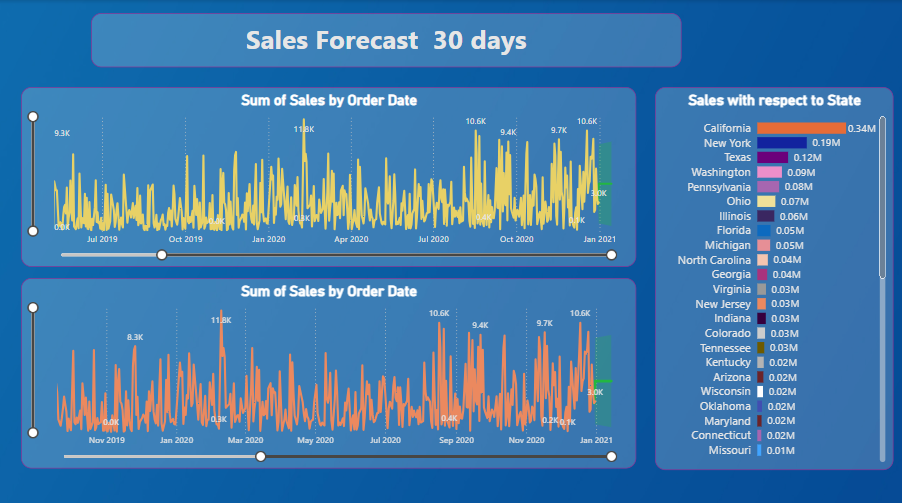

The page's visual inventory and layout, read from the dashboard file:
{"tool":"powerbi","page":{"name":"Page 2","canvas":[1280,720],"ordinal":1},"visuals":[{"type":"lineChart","fields":{"Y":["Sum(SuperStore_Sales_Dataset.Sales)"],"Category":["SuperStore_Sales_Dataset.Order Date"]},"box":[31.9,122.6,871.8,255.3],"z":0},{"type":"lineChart","fields":{"Y":["Sum(SuperStore_Sales_Dataset.Sales)"],"Category":["SuperStore_Sales_Dataset.Order Date"]},"box":[32.1,393.8,871.6,270.4],"z":1000},{"type":"barChart","title":"Sales with respect to State","fields":{"Category":["SuperStore_Sales_Dataset.State"],"Y":["Sum(SuperStore_Sales_Dataset.Sales)"]},"box":[930.6,122.6,337.6,542.6],"z":2000},{"type":"textbox","box":[131.7,18.3,836.7,76.7],"z":3000}]}

Visuals, with their boxes in screenshot pixels (x1, y1, x2, y2), scaled from the page's 1280x720 canvas onto the 902x503 screenshot:
lineChart - Sum(SuperStore_Sales_Dataset.Sales) x SuperStore_Sales_Dataset.Order Date: bbox(22, 86, 637, 264)
lineChart - Sum(SuperStore_Sales_Dataset.Sales) x SuperStore_Sales_Dataset.Order Date: bbox(23, 275, 637, 464)
"Sales with respect to State" barChart: bbox(656, 86, 894, 465)
textbox: bbox(93, 13, 682, 66)
